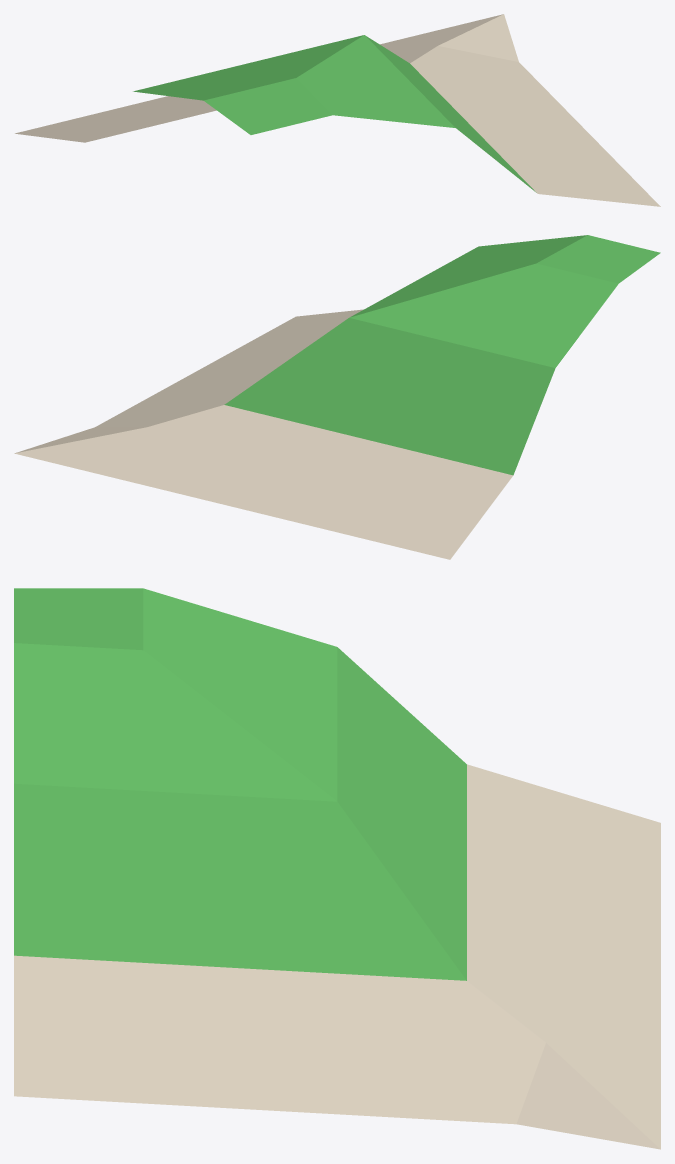
Rendered from Hilly_Terrain_Path_Corner_Y_2x2.glb.
3 renders of one model, top to bottom at view 1: azimuth 30°, elevation 25°; view 2: azimuth 150°, elevation 25°; view 3: azimuth 270°, elevation 25°, orthographic. The views are drawn at different scales.
Visible parts, largest first — view 1: Hilly_Terrain_Path_Corner_Y_2x2; view 2: Hilly_Terrain_Path_Corner_Y_2x2; view 3: Hilly_Terrain_Path_Corner_Y_2x2.
Part boxes in pixels (x1,y1,x2,y2): Hilly_Terrain_Path_Corner_Y_2x2: (15, 14, 660, 206); Hilly_Terrain_Path_Corner_Y_2x2: (14, 235, 660, 559); Hilly_Terrain_Path_Corner_Y_2x2: (14, 588, 660, 1149).
Bounding box in the file's own units: 0.5974 × 0.2 × 0.5.
